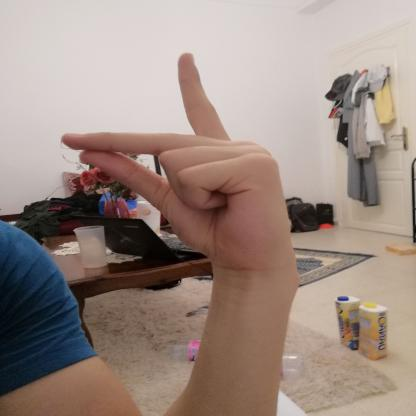TAA: (51, 44, 309, 284)
